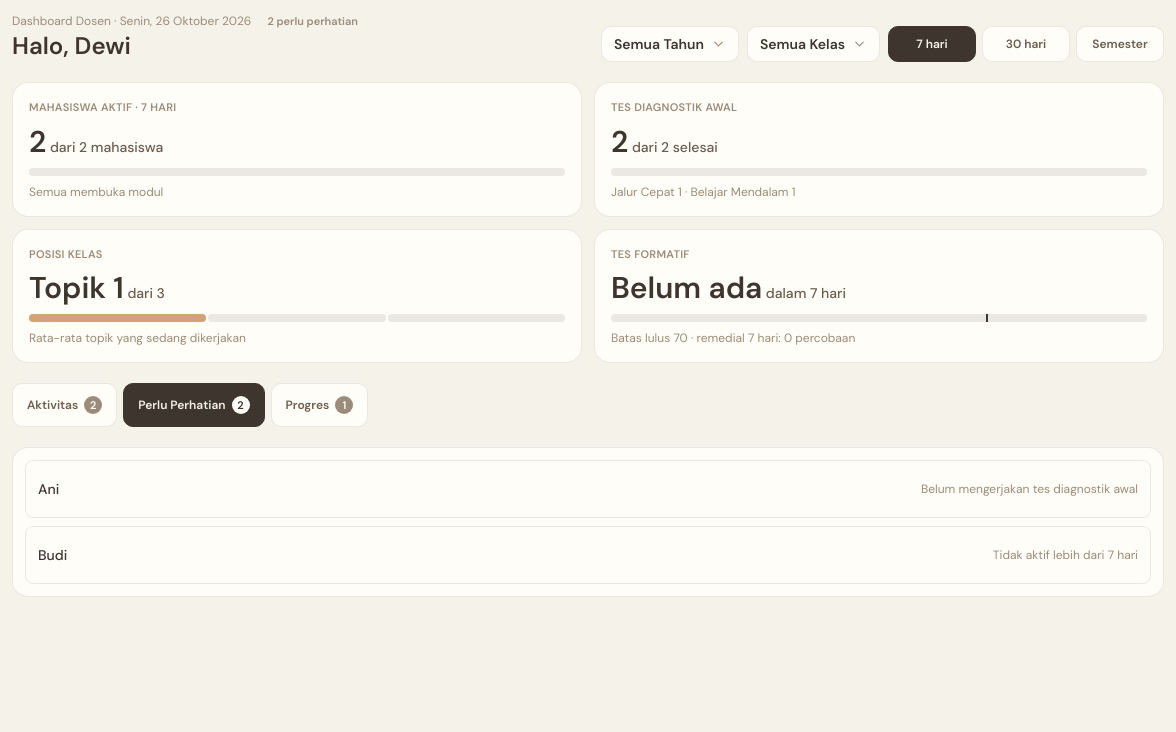
Test: DosenHome kepala dan kartu › belum ada formatif: kartu baru, "Topik 1 dari 3" (bukan P0), dan bilah langkah ke /modul
This screenshot has width=1176, height=732.
Expected: the text "Jalur Cepat 1 · Belajar Mendalam 1" is shown, 611,184 -> 796,200
Expected: the text "Langkah berikutnya" is not shown
# Rentang Semester: belum ada formatif sama sekali, bilah langkah muncul.
Step 1. Click the button "Semester" → [1120, 44], box 1076,26 -> 1164,62
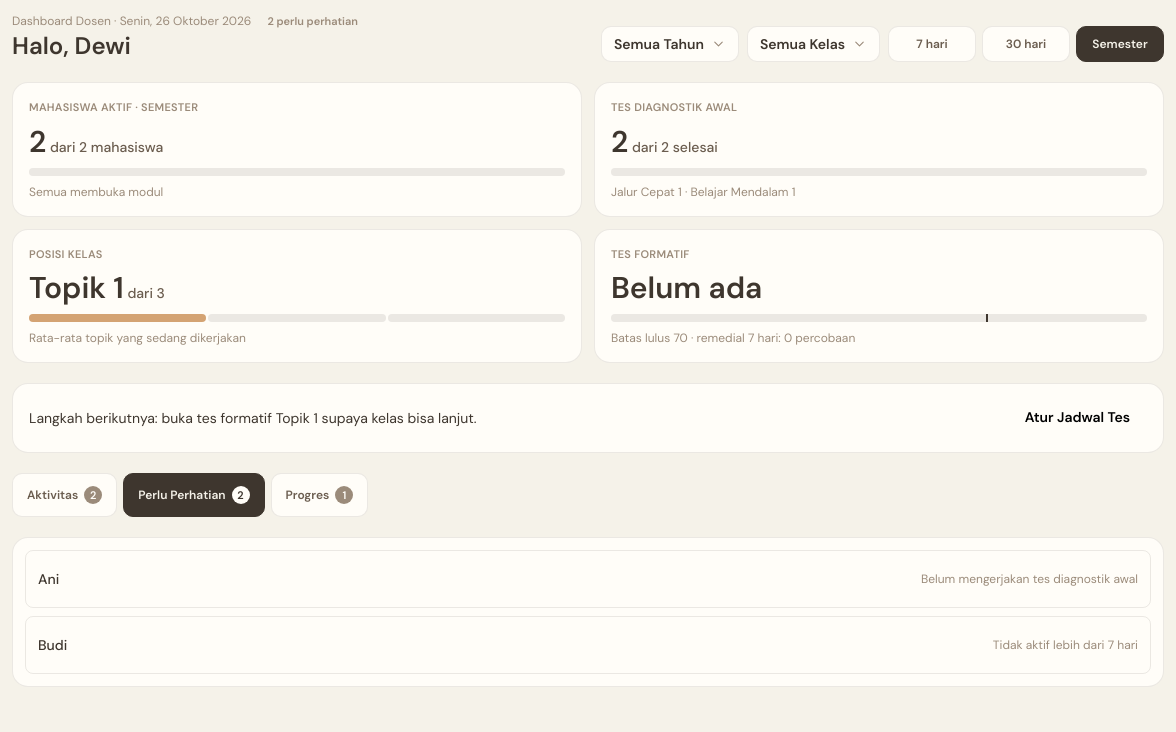
Now the text "Langkah berikutnya: buka tes formatif Topik 1 supaya kelas bisa lanjut." is shown, box 29,408 -> 476,428
